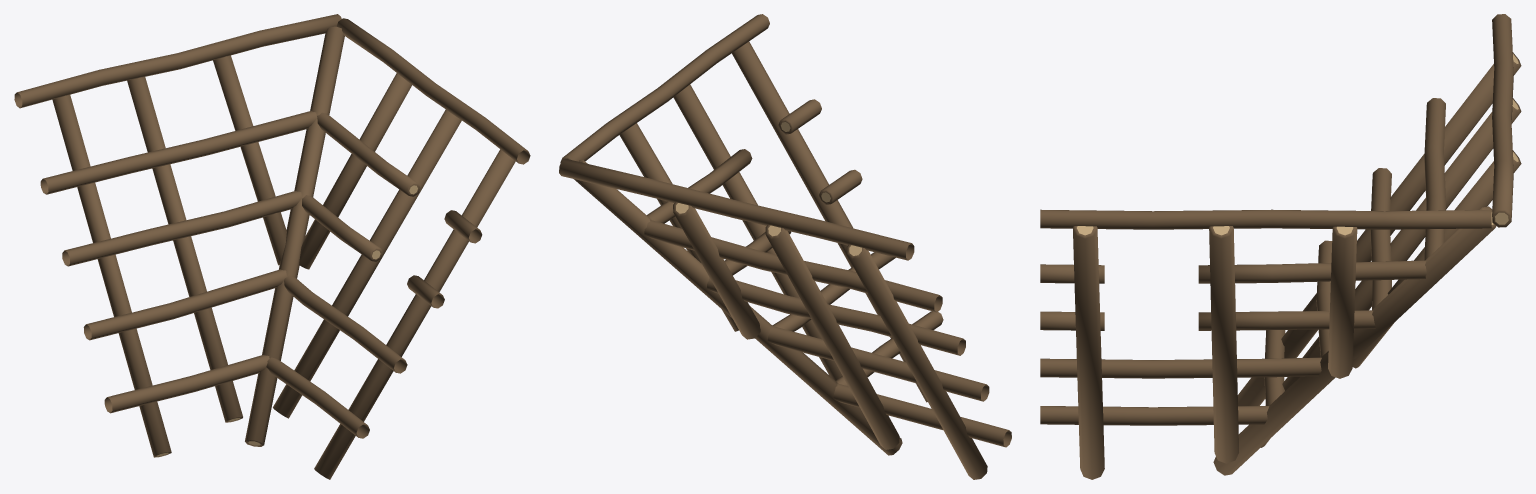
The model's file is rpgpp_ag_roof_support_01_6x5x3_corner_a_chimney_01.fbx.
The picture shows the model from 3 angles, left to right: view 1: azimuth 30°, elevation 25°; view 2: azimuth 150°, elevation 25°; view 3: azimuth 270°, elevation 25°; orthographic projection. The views are drawn at different scales.
Visible parts, largest first — view 1: rpgpp_ag_roof_support_01_6x5x3_corner_a_chimney_01; view 2: rpgpp_ag_roof_support_01_6x5x3_corner_a_chimney_01; view 3: rpgpp_ag_roof_support_01_6x5x3_corner_a_chimney_01.
Boxes of the visible parts, <box> form: rpgpp_ag_roof_support_01_6x5x3_corner_a_chimney_01: <box>14,14,530,479</box>; rpgpp_ag_roof_support_01_6x5x3_corner_a_chimney_01: <box>559,14,1011,479</box>; rpgpp_ag_roof_support_01_6x5x3_corner_a_chimney_01: <box>1040,14,1521,479</box>.
Size of the model in its own units: 6.27 by 5.49 by 6.23.
